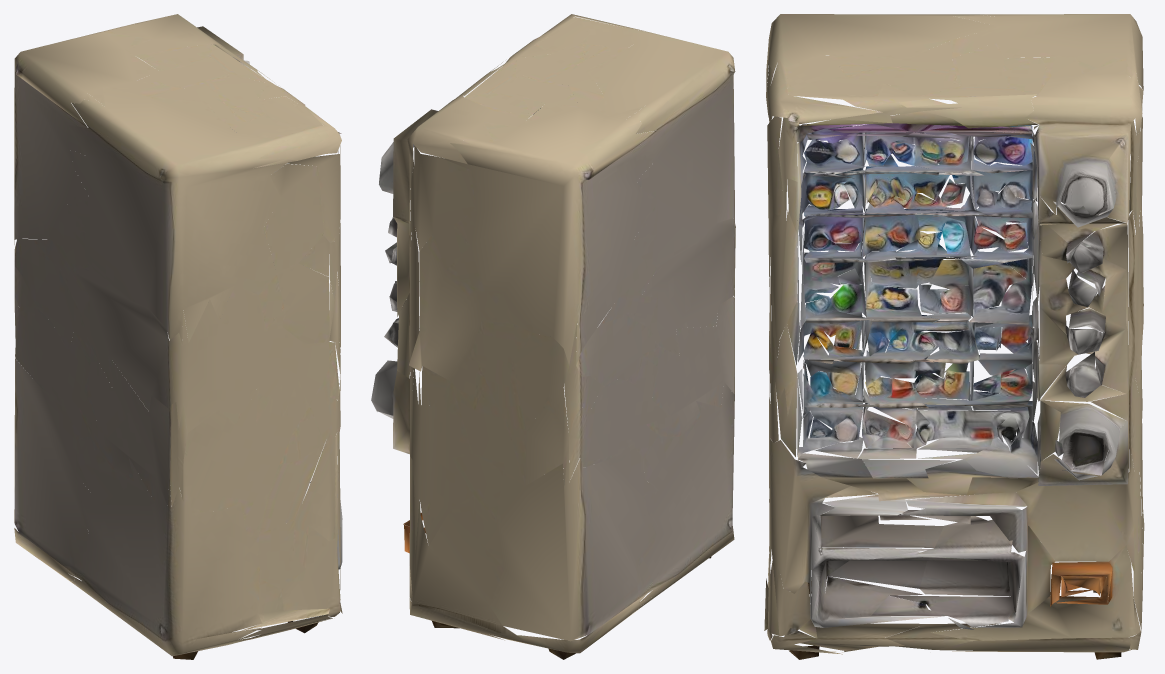
Rendered from ticket_machine.glb.
3 renders of one model, left to right at view 1: azimuth 30°, elevation 25°; view 2: azimuth 150°, elevation 25°; view 3: azimuth 270°, elevation 25°, orthographic. The views are drawn at different scales.
Visible parts, largest first — view 1: tripo_node_016d115b-582f-4ca8-9269-9224c3f8a897; view 2: tripo_node_016d115b-582f-4ca8-9269-9224c3f8a897; view 3: tripo_node_016d115b-582f-4ca8-9269-9224c3f8a897.
Part boxes in pixels (x1=…): tripo_node_016d115b-582f-4ca8-9269-9224c3f8a897: x1=14, y1=14, x2=342, y2=659; tripo_node_016d115b-582f-4ca8-9269-9224c3f8a897: x1=371, y1=14, x2=735, y2=659; tripo_node_016d115b-582f-4ca8-9269-9224c3f8a897: x1=764, y1=14, x2=1144, y2=659.
Size of the model in its own units: 0.8368 by 1.8 by 1.11.
Materials: 1 (1 with a texture image).
